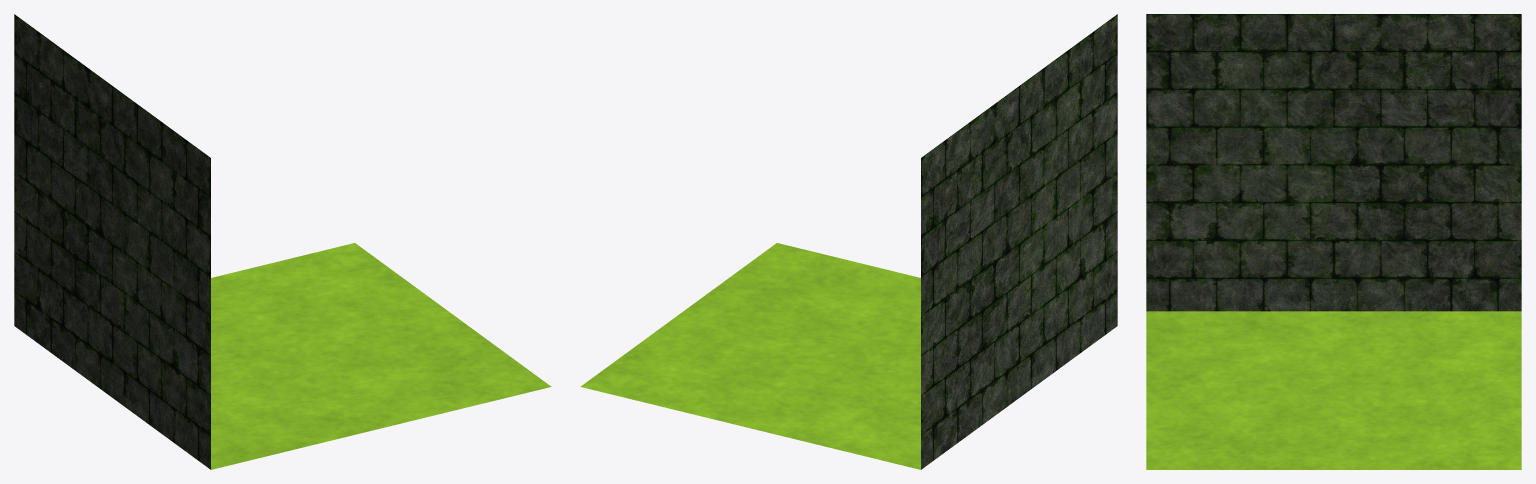
The model's file is grass_wall.glb.
The picture shows the model from 3 angles, left to right: view 1: azimuth 30°, elevation 25°; view 2: azimuth 150°, elevation 25°; view 3: azimuth 270°, elevation 25°; orthographic projection. The views are drawn at different scales.
Visible parts, largest first — view 1: ground; view 2: ground; view 3: ground.
Boxes of the visible parts, x1,y1,x2,y2 form: ground: [14, 14, 551, 469]; ground: [580, 14, 1117, 469]; ground: [1146, 14, 1521, 469].
Bounding box in the file's own units: 2 × 1.75 × 2.
Materials: 2 (2 with a texture image).
